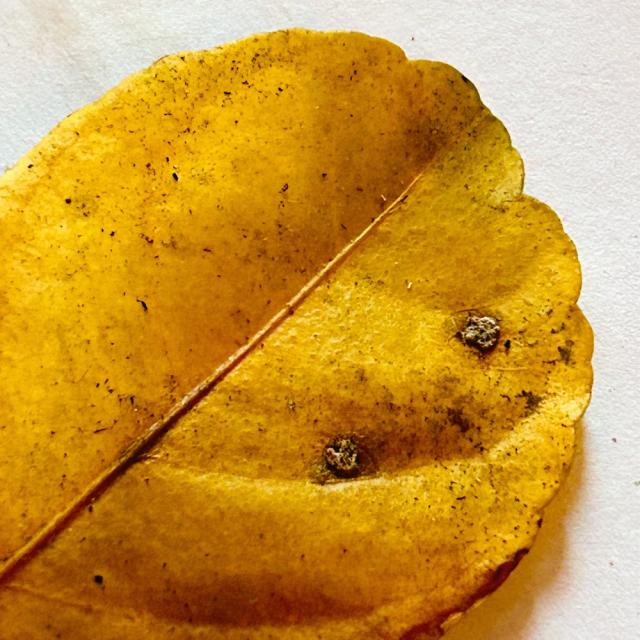DryLeaf_Lemon: (0, 29, 593, 639)
